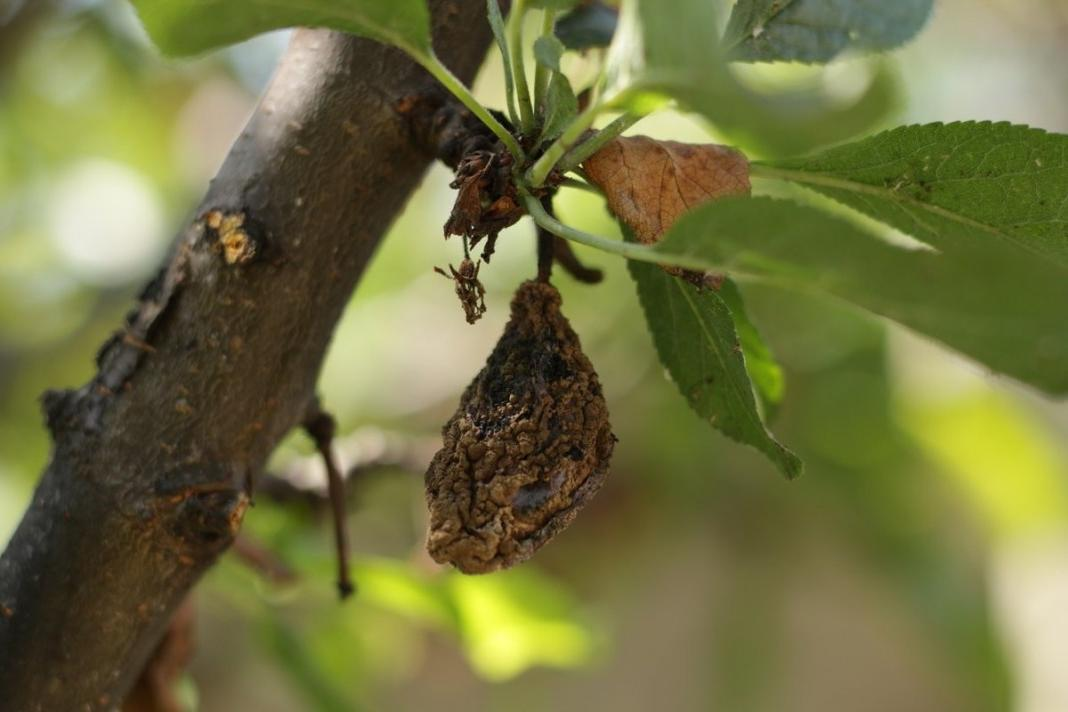mummified_fruits: (426, 281, 615, 573)
